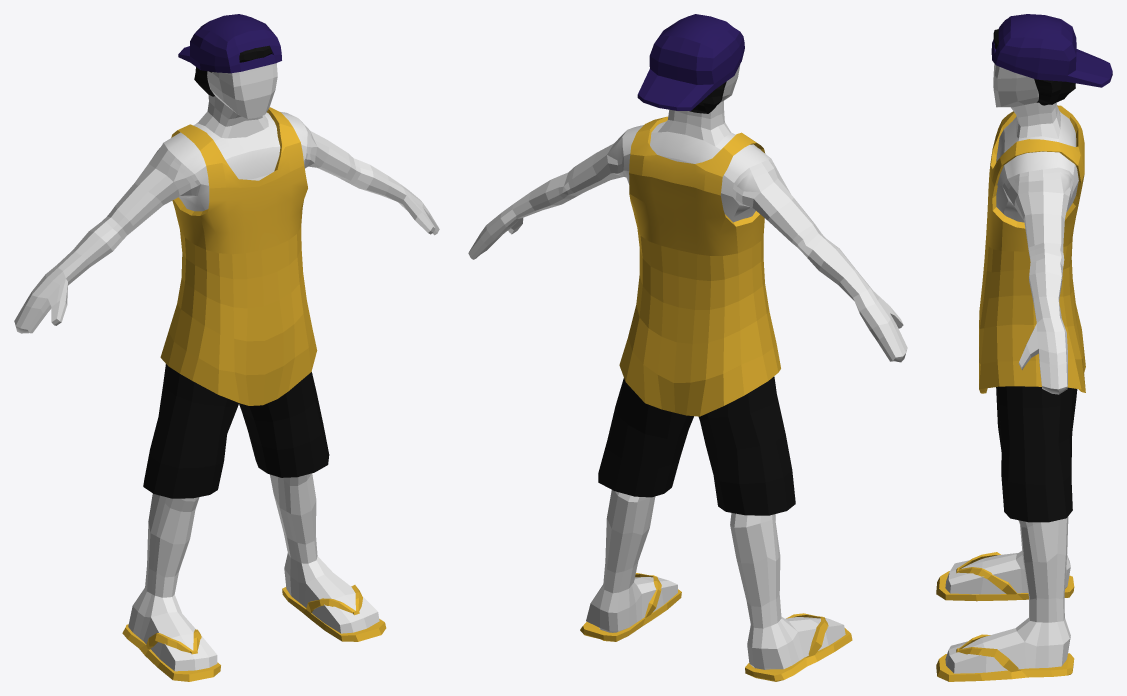
Rendered from kidGame.fbx.
The picture shows the model from 3 angles, left to right: view 1: azimuth 30°, elevation 25°; view 2: azimuth 150°, elevation 25°; view 3: azimuth 270°, elevation 25°; orthographic projection. The views are drawn at different scales.
Parts seen in each view (by area): view 1: Body, Regata, Berma, Cap, Chinela, Cabelin; view 2: Regata, Body, Berma, Cap, Chinela; view 3: Body, Regata, Berma, Cap, Chinela, Cabelin.
Boxes of the visible parts, <box> form: Body: <box>14,63,439,671</box>; Regata: <box>160,107,317,405</box>; Berma: <box>143,364,329,498</box>; Cap: <box>178,14,281,73</box>; Chinela: <box>122,585,386,681</box>; Cabelin: <box>194,46,272,96</box>; Regata: <box>619,116,780,416</box>; Body: <box>468,64,907,669</box>; Berma: <box>598,376,795,515</box>; Cap: <box>637,14,744,110</box>; Chinela: <box>580,573,852,681</box>; Body: <box>945,63,1078,673</box>; Regata: <box>979,105,1085,393</box>; Berma: <box>996,386,1077,522</box>; Cap: <box>991,14,1112,87</box>; Chinela: <box>936,552,1074,681</box>; Cabelin: <box>993,29,1075,105</box>.
Bounding box in the file's own units: 19.75 × 7.12 × 27.22.
